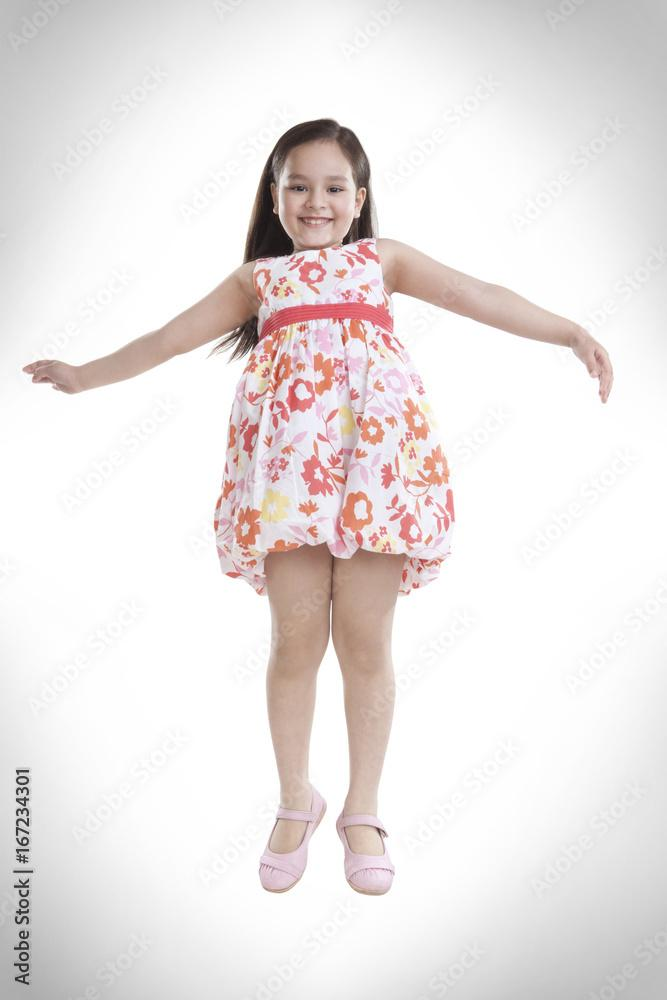Human: (31, 118, 617, 899)
